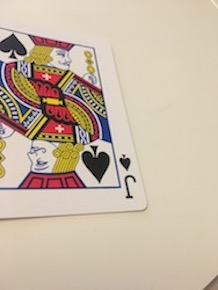JackOfSpades: (1, 13, 152, 229)
